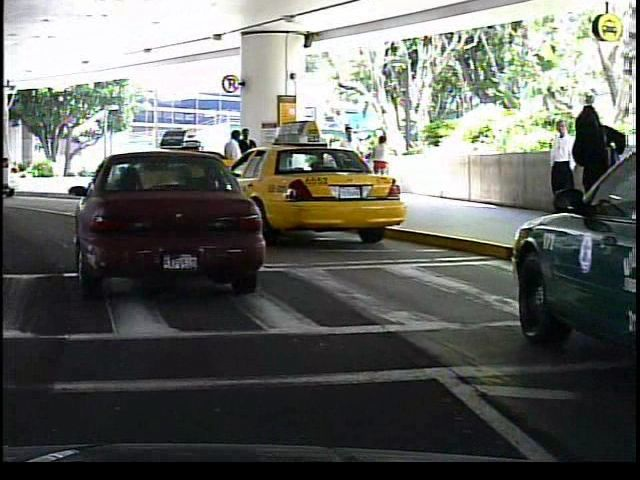person: (567, 103, 625, 258), (538, 112, 580, 228), (334, 120, 366, 199), (218, 127, 247, 202), (366, 131, 393, 194), (238, 125, 259, 198)
